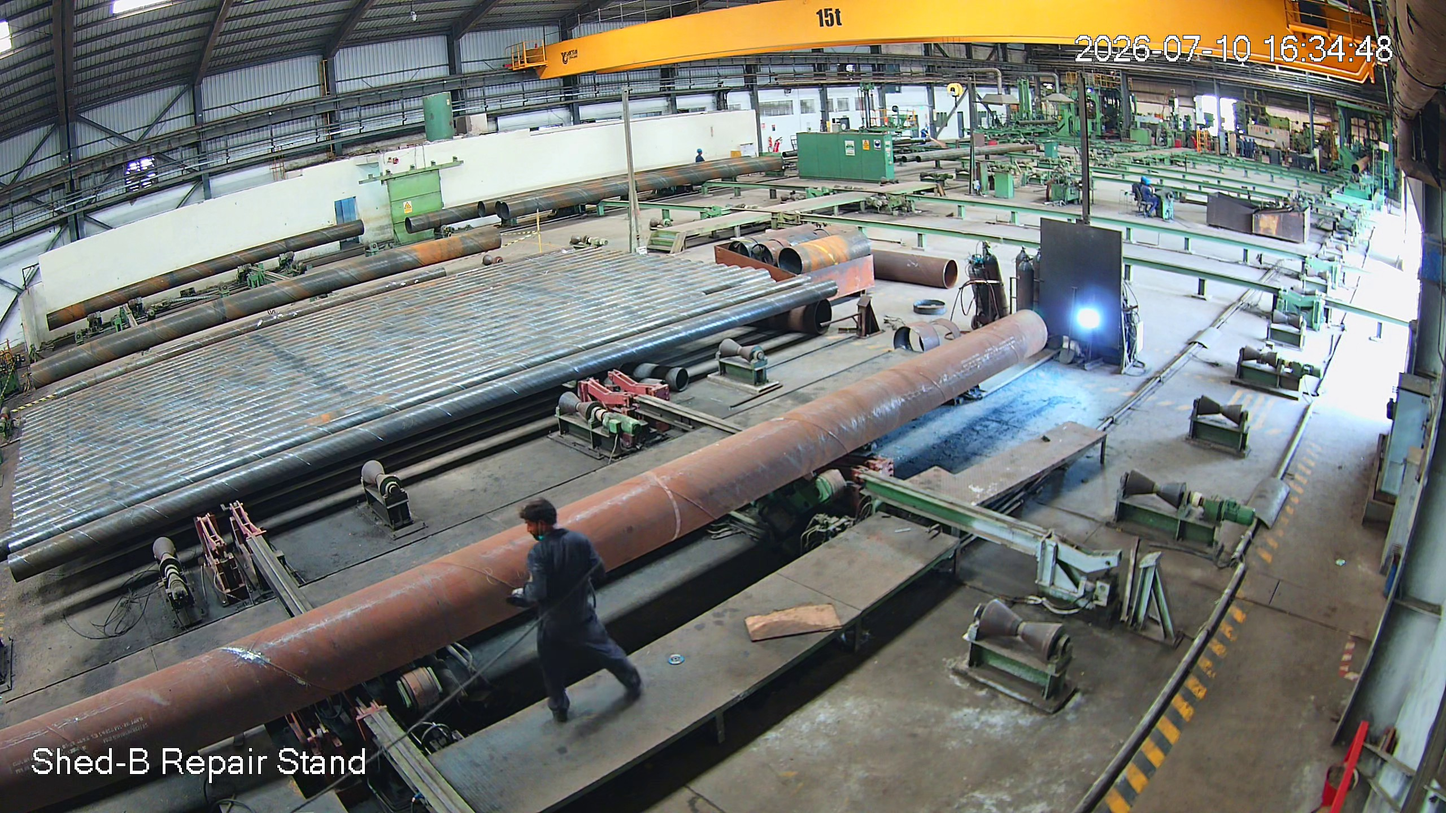Person: (502, 501, 642, 746)
